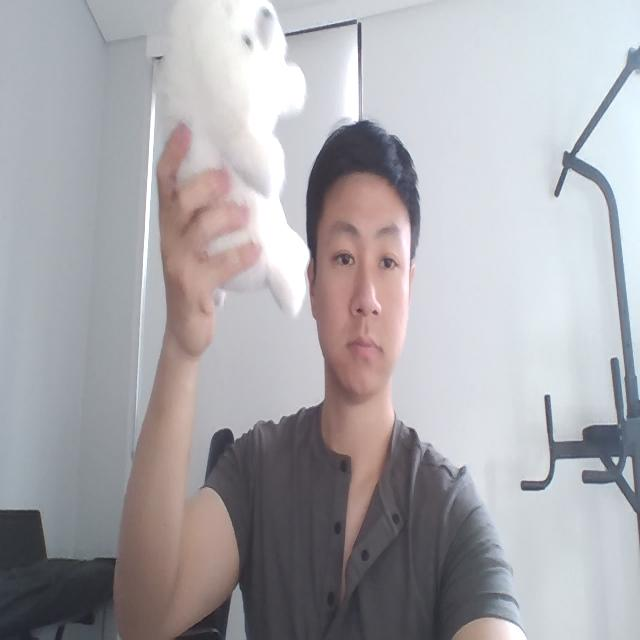seal_bb: (159, 0, 312, 324)
